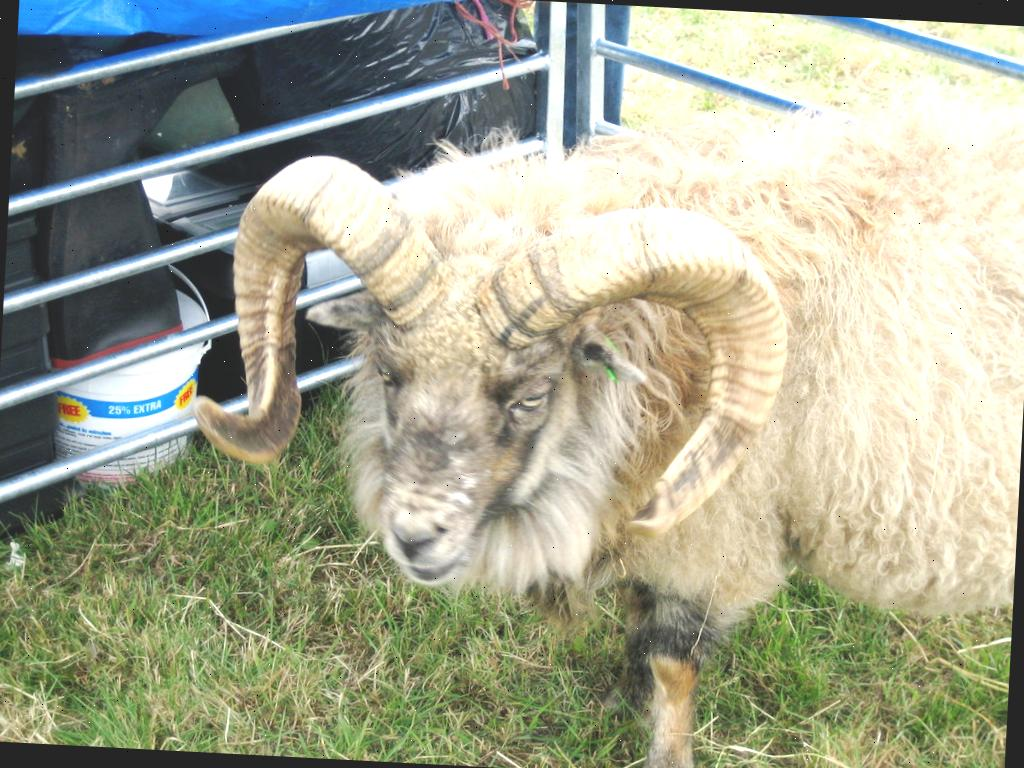Sheep: (192, 64, 1022, 768)
